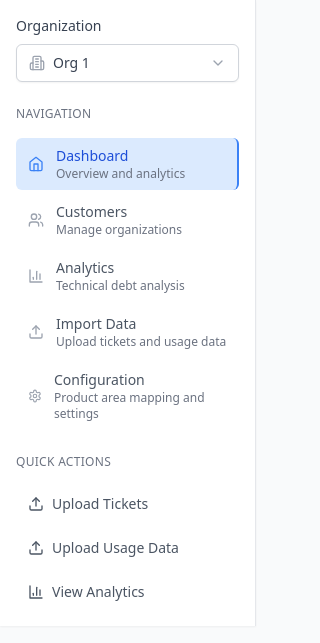
Test: Sidebar › opens dropdown when clicked
The image size is (320, 643).
Expected: the text "Org 1" is shown, [53,53,90,73]
Click the button "Org 1".
click(128, 63)  # box [16,44,239,82]
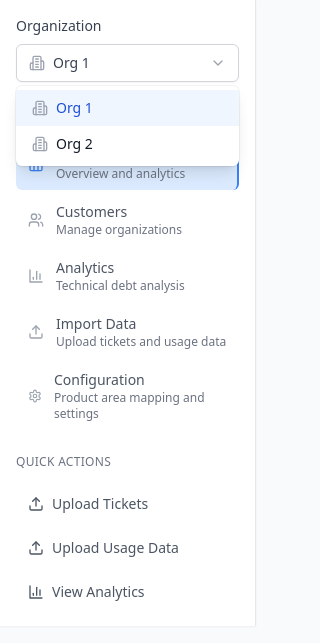
Now the text "Org 2" is shown, box [32,134,93,153]
